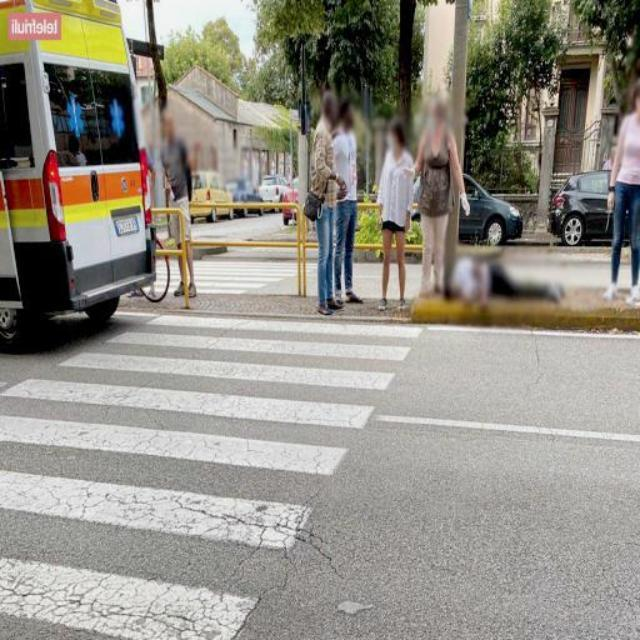sidewalk: (2, 310, 423, 640)
